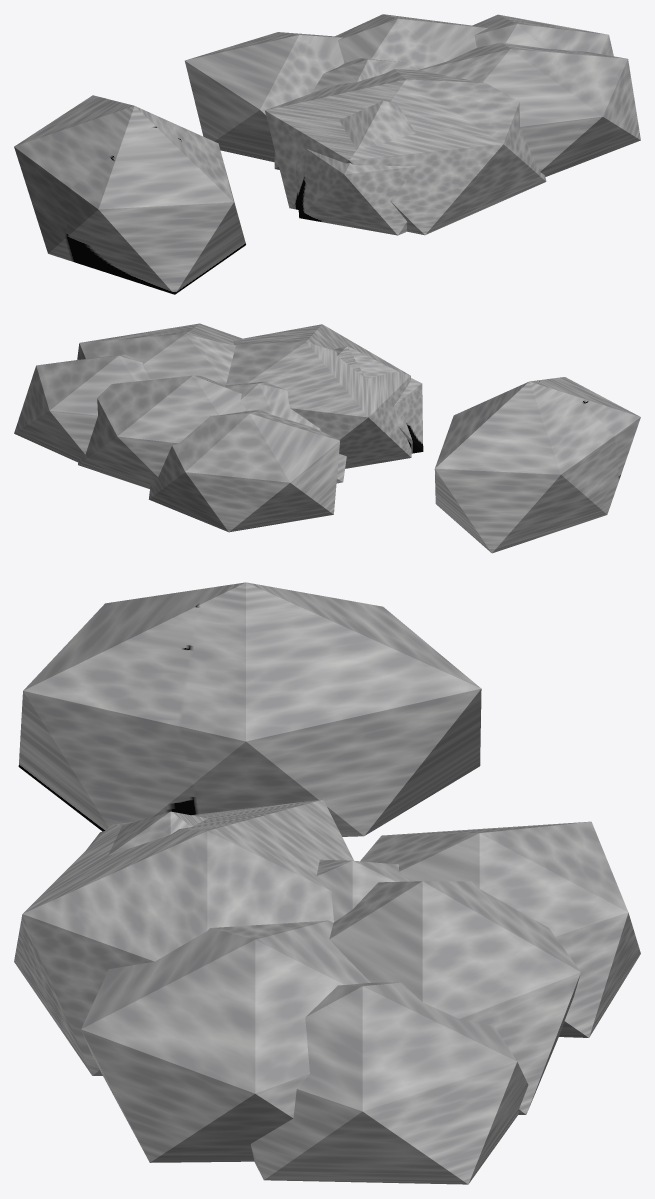
Rendered from 자갈무리_01.fbx.
3 views of the same model, one above another, from view 1: azimuth 30°, elevation 25°; view 2: azimuth 150°, elevation 25°; view 3: azimuth 270°, elevation 25° (orthographic). The views are drawn at different scales.
Visible parts, largest first — view 1: 자갈무리_01; view 2: 자갈무리_01; view 3: 자갈무리_01.
Boxes of the visible parts, x1=… form: 자갈무리_01: x1=14, y1=14, x2=640, y2=294; 자갈무리_01: x1=14, y1=323, x2=640, y2=553; 자갈무리_01: x1=14, y1=582, x2=640, y2=1184.
Size of the model in its own units: 1921 by 399 by 1088.
1 material, 1 textured.
